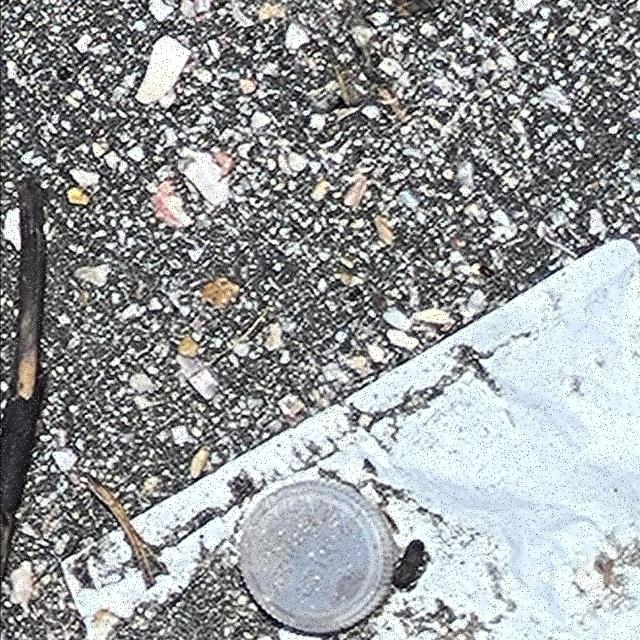plastic_waste: (236, 483, 394, 637)
